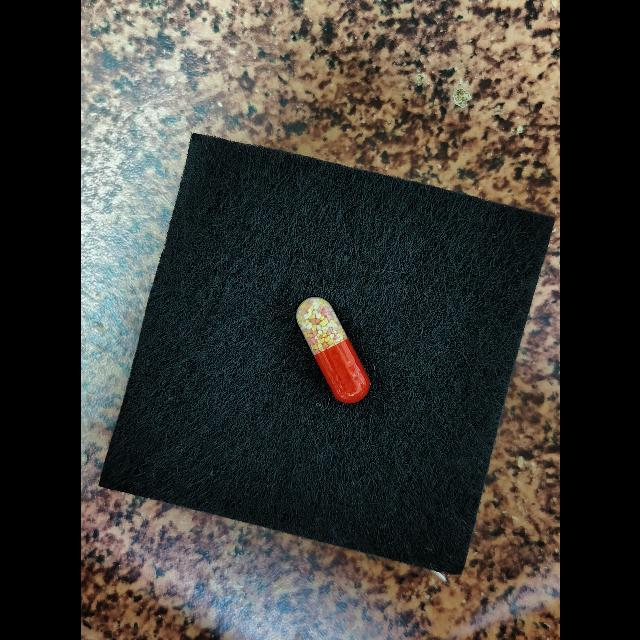Intact Capsule: (296, 296, 370, 403)
